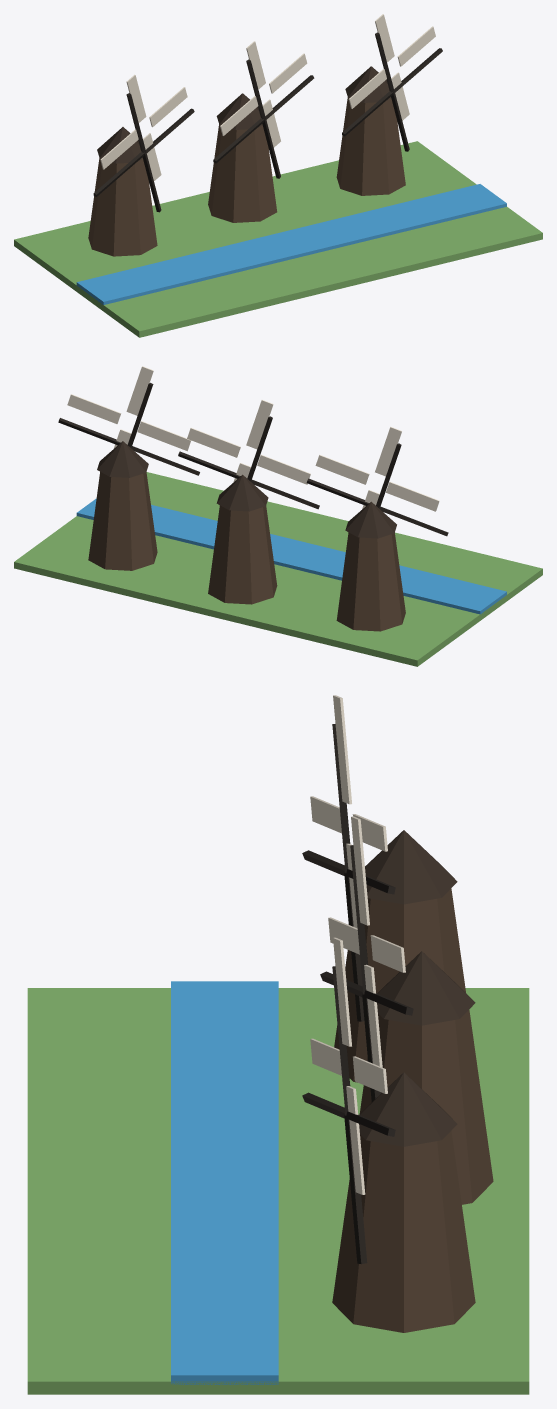
The model's file is kinderdijk-windmills.glb.
The picture shows the model from 3 angles, top to bottom: view 1: azimuth 30°, elevation 25°; view 2: azimuth 150°, elevation 25°; view 3: azimuth 270°, elevation 25°; orthographic projection. The views are drawn at different scales.
Parts seen in each view (by area): view 1: kinderdijk-windmills; view 2: kinderdijk-windmills; view 3: kinderdijk-windmills.
Boxes of the visible parts, x1,y1,x2,y2 form: kinderdijk-windmills: (14,14,542,337); kinderdijk-windmills: (14,366,542,666); kinderdijk-windmills: (27,695,529,1394).
Bounding box in the file's own units: 2.25 × 1 × 1.21.
